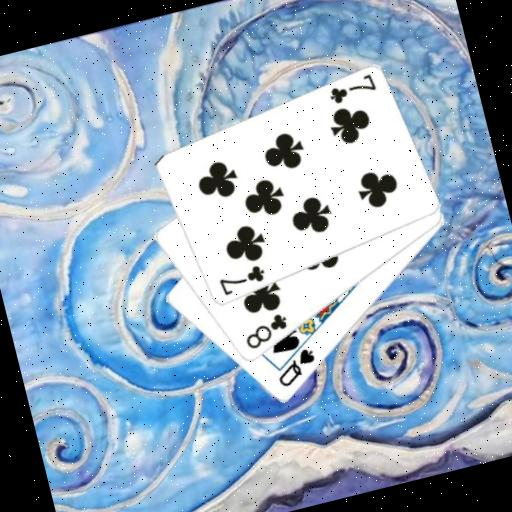7C: (214, 261, 270, 300), (324, 70, 380, 108)
8C: (237, 309, 294, 354)
QS: (269, 344, 322, 391)
